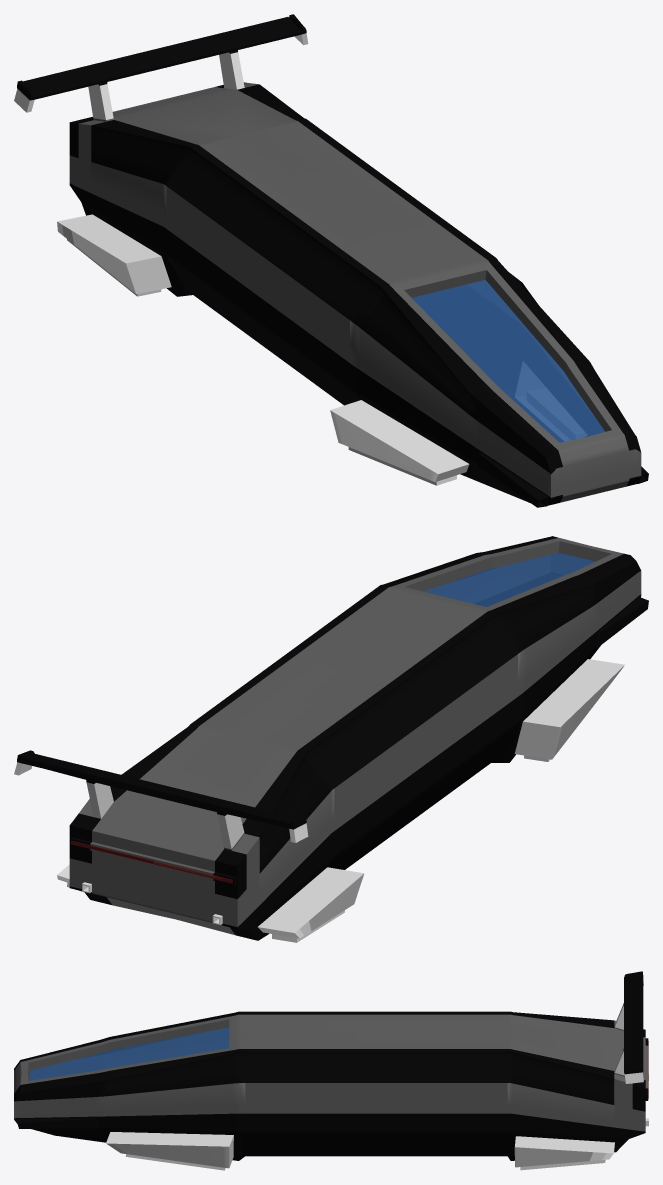
The model's file is car_1.fbx.
3 renders of one model, top to bottom at view 1: azimuth 30°, elevation 25°; view 2: azimuth 150°, elevation 25°; view 3: azimuth 270°, elevation 25°, orthographic. The views are drawn at different scales.
Visible parts, largest first — view 1: pCube3; view 2: pCube3; view 3: pCube3.
Part boxes in pixels (x1,y1,x2,y2): pCube3: (14, 14, 648, 507); pCube3: (14, 536, 648, 942); pCube3: (14, 971, 648, 1170).
Bounding box in the file's own units: 8.91 × 4.96 × 24.38.
